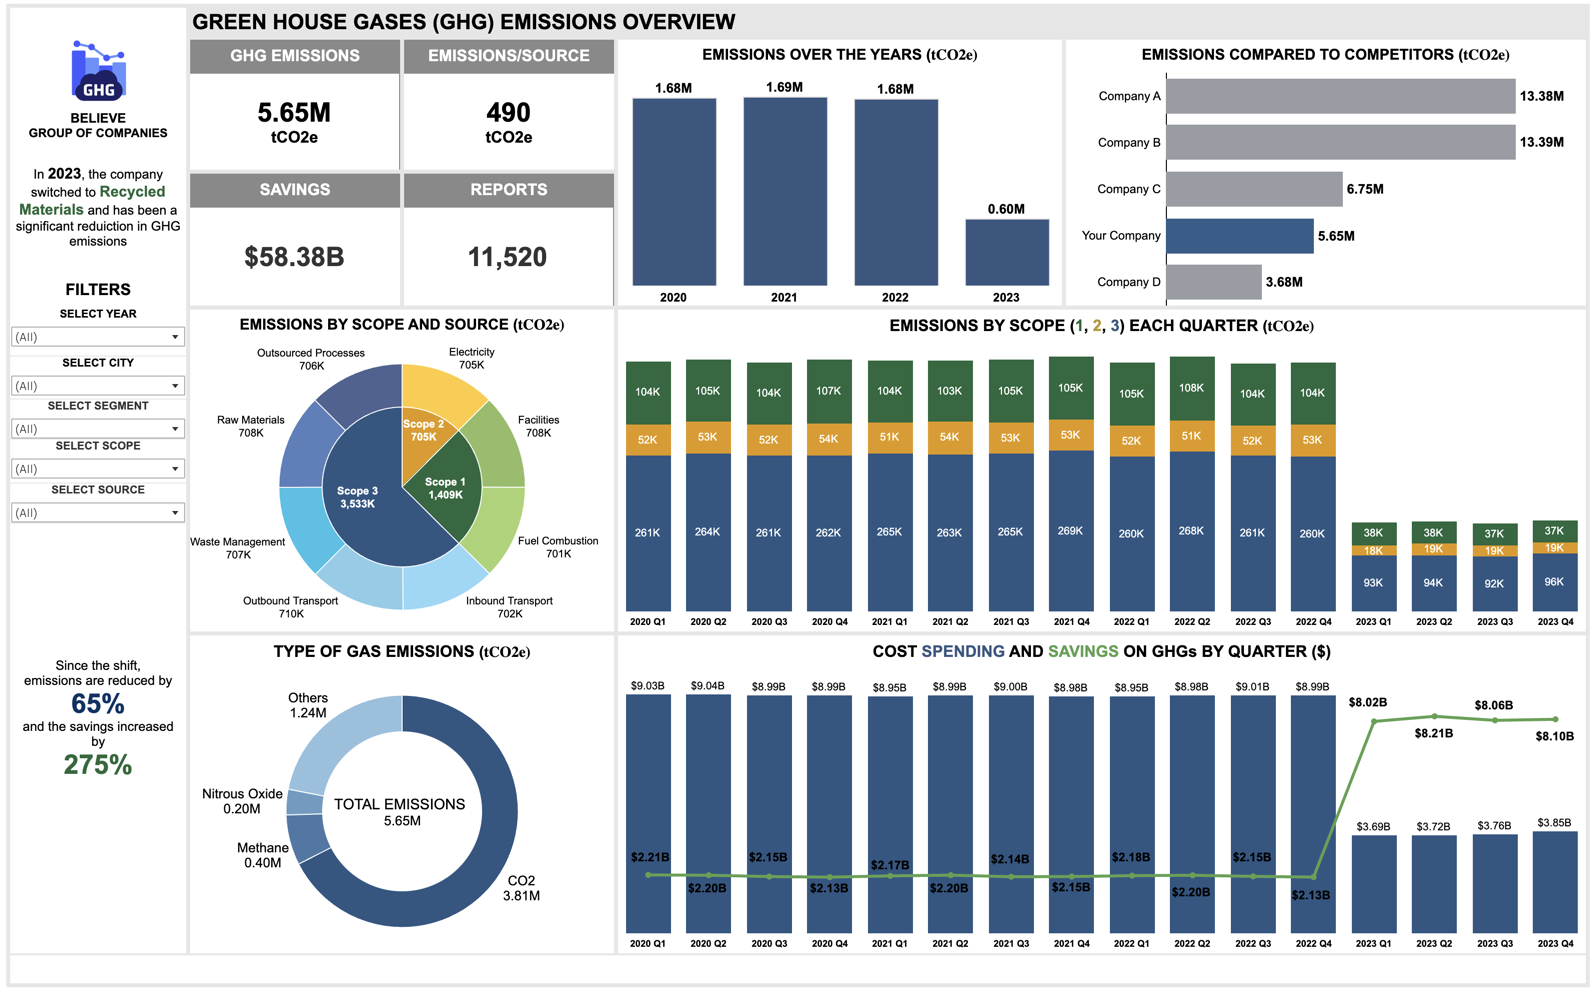

What the dashboard file says about the page in this screenshot:
{"tool":"tableau","page":{"name":"GHG EMISSIONS","canvas":[1600,1000],"ordinal":0},"visuals":[{"type":"text","box":[190,8,1402,32]},{"type":"image","param":"Image/Screenshot at Oct 24 23-25-17.png","box":[12,40,176,71]},{"type":"worksheet","title":"KPI - GHG","mark":"Automatic","box":[190,40,214,136]},{"type":"worksheet","title":"KPI - GHG persource","mark":"Automatic","box":[404,40,214,136]},{"type":"worksheet","title":"Change by Year","mark":"Bar","rows":["GHG Total Emissions"],"cols":["Month and Year"],"box":[618,40,448,272]},{"type":"worksheet","title":"Company Comparison","mark":"Bar","rows":["Company"],"cols":["GHG Total Emissions"],"box":[1066,40,526,272]},{"type":"text","box":[12,111,176,37]},{"type":"text","box":[12,163,176,96]},{"type":"worksheet","title":"KPI - Savings","mark":"Automatic","box":[190,176,214,136]},{"type":"worksheet","title":"KPI - Count","mark":"Automatic","box":[404,176,214,136]},{"type":"text","box":[12,280,176,27]},{"type":"filter","title":"Company Comparison","param":"[federated.1d3ekde1bm0iaf15luv0e0qo79a5].[yr:Month and Year:ok]","box":[8,312,182,49]},{"type":"worksheet","title":"Scope Pie","mark":"Pie","cols":["Calculation_4084553763377541121","Calculation_4084553763377541121"],"box":[190,312,428,326]},{"type":"worksheet","title":"Scope by Quarter","mark":"Bar","rows":["GHG Total Emissions"],"cols":["Month and Year"],"box":[618,312,974,326]},{"type":"filter","title":"Change by Year","param":"[federated.1d3ekde1bm0iaf15luv0e0qo79a5].[none:City:nk]","box":[8,361,182,43]},{"type":"filter","title":"Change by Year","param":"[federated.1d3ekde1bm0iaf15luv0e0qo79a5].[none:Segment:nk]","box":[8,404,182,40]},{"type":"filter","title":"Scope by Quarter","param":"[federated.1d3ekde1bm0iaf15luv0e0qo79a5].[none:Scope:nk]","box":[8,444,182,44]},{"type":"filter","title":"Scope by Quarter","param":"[federated.1d3ekde1bm0iaf15luv0e0qo79a5].[none:Source:nk]","box":[8,488,182,40]},{"type":"text","box":[12,638,176,171]},{"type":"worksheet","title":"GHG Pie","mark":"Pie","cols":["Calculation_4084553763377541121","Calculation_4084553763377541121"],"box":[190,638,428,322]},{"type":"worksheet","title":"Cost","mark":"Automatic","rows":["Cost Spent due to GHG Emissions","Cost Savings"],"cols":["Month and Year (Sheet1)"],"box":[618,638,974,322]},{"type":"blank","box":[8,960,1584,32]}]}

Visuals, with their boxes in screenshot pixels (x1, y1, x2, y2), scaled from the page's 1600x1000 canvas onto the 1594x992 screenshot:
text: [left=189, top=8, right=1586, bottom=40]
image: [left=12, top=40, right=187, bottom=110]
"KPI - GHG" worksheet: [left=189, top=40, right=402, bottom=175]
"KPI - GHG persource" worksheet: [left=402, top=40, right=616, bottom=175]
"Change by Year" worksheet (Bar marks): [left=616, top=40, right=1062, bottom=310]
"Company Comparison" worksheet (Bar marks): [left=1062, top=40, right=1586, bottom=310]
text: [left=12, top=110, right=187, bottom=147]
text: [left=12, top=162, right=187, bottom=257]
"KPI - Savings" worksheet: [left=189, top=175, right=402, bottom=310]
"KPI - Count" worksheet: [left=402, top=175, right=616, bottom=310]
text: [left=12, top=278, right=187, bottom=305]
"Company Comparison" filter: [left=8, top=310, right=189, bottom=358]
"Scope Pie" worksheet (Pie marks): [left=189, top=310, right=616, bottom=633]
"Scope by Quarter" worksheet (Bar marks): [left=616, top=310, right=1586, bottom=633]
"Change by Year" filter: [left=8, top=358, right=189, bottom=401]
"Change by Year" filter: [left=8, top=401, right=189, bottom=440]
"Scope by Quarter" filter: [left=8, top=440, right=189, bottom=484]
"Scope by Quarter" filter: [left=8, top=484, right=189, bottom=524]
text: [left=12, top=633, right=187, bottom=803]
"GHG Pie" worksheet (Pie marks): [left=189, top=633, right=616, bottom=952]
"Cost" worksheet: [left=616, top=633, right=1586, bottom=952]
blank: [left=8, top=952, right=1586, bottom=984]
